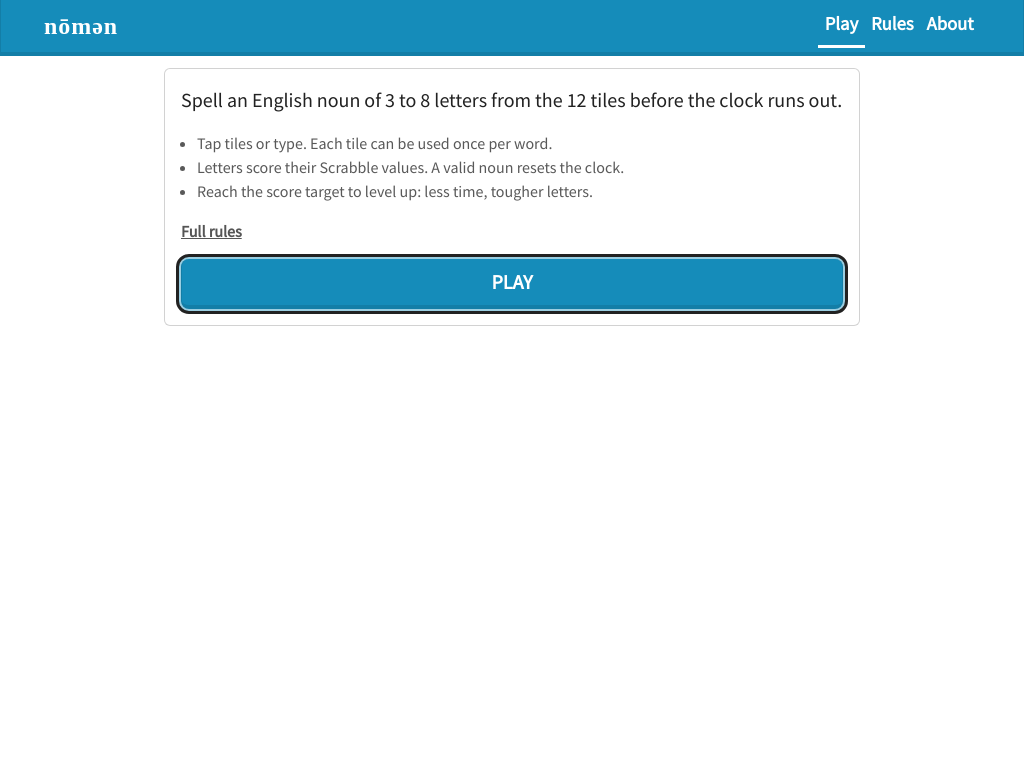
Test: User Story 2: race the clock › resets to the full allowance on a valid noun
Click the button "Play" at (512,284), box [181,259,843,309]
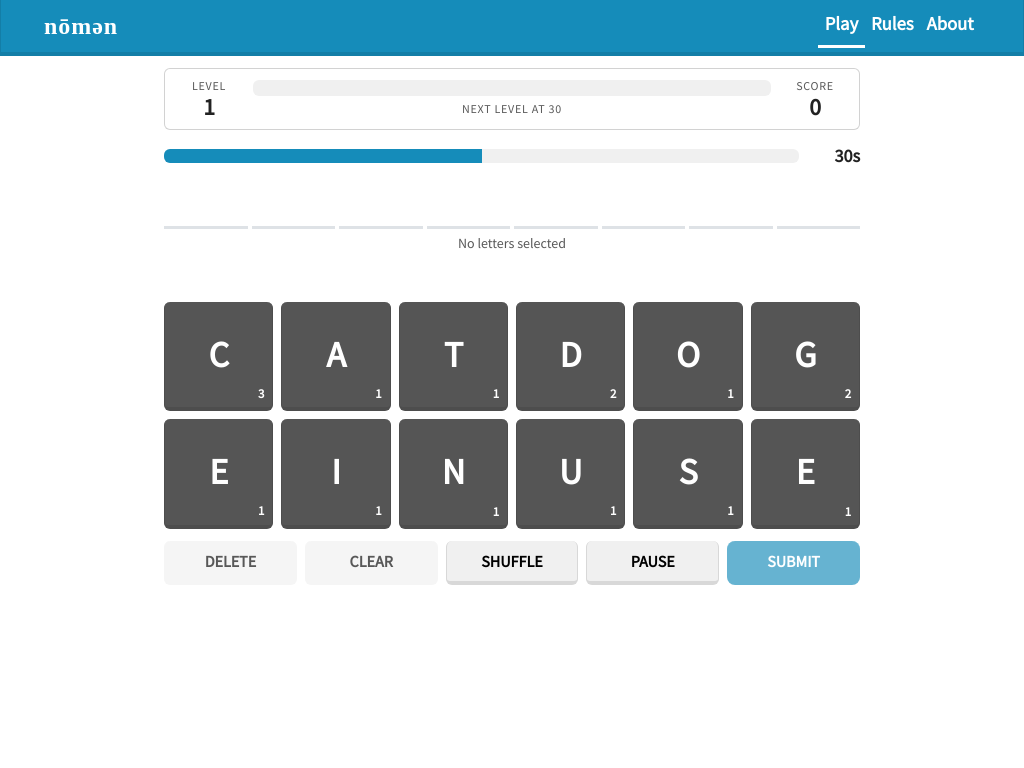
Result: the text "30s" is shown at [834,144,860,167]
Type keys "cat{Enter}"
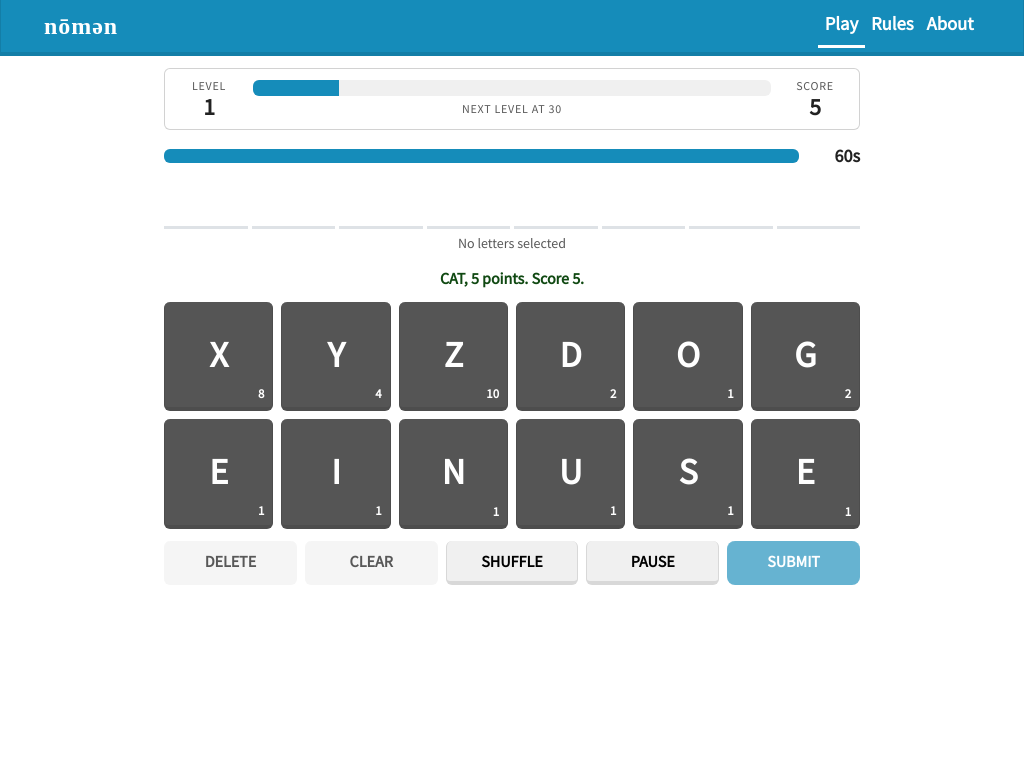
Result: the text "60s" is shown at [834,144,860,167]
